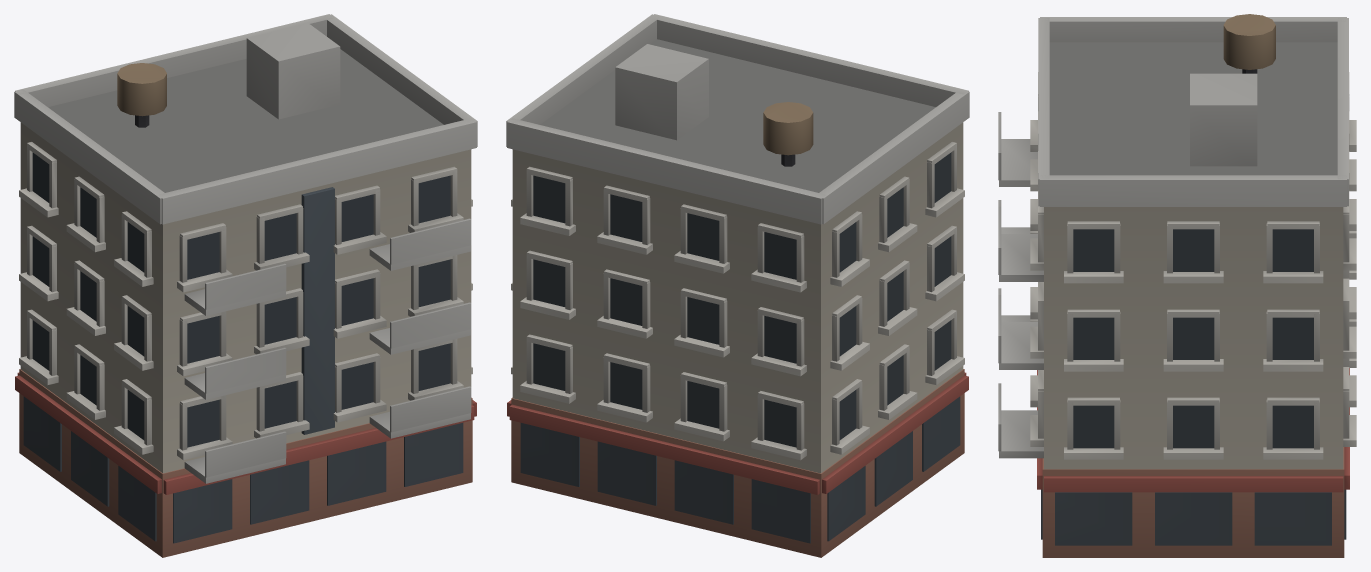
File: house_modern_2.glb
3 views of the same model, side by side, from view 1: azimuth 30°, elevation 25°; view 2: azimuth 150°, elevation 25°; view 3: azimuth 270°, elevation 25° (orthographic). The views are drawn at different scales.
Parts seen in each view (by area): view 1: Body_Detail, Body_Wall; view 2: Body_Detail, Body_Wall; view 3: Body_Detail, Body_Wall.
Boxes of the visible parts, <box> form: Body_Detail: <box>14,14,477,557</box>; Body_Wall: <box>20,122,471,473</box>; Body_Detail: <box>506,14,969,557</box>; Body_Wall: <box>512,122,963,473</box>; Body_Detail: <box>998,14,1356,557</box>; Body_Wall: <box>1044,207,1343,469</box>.
Bounding box in the file's own units: 1.07 × 1.24 × 0.958.
